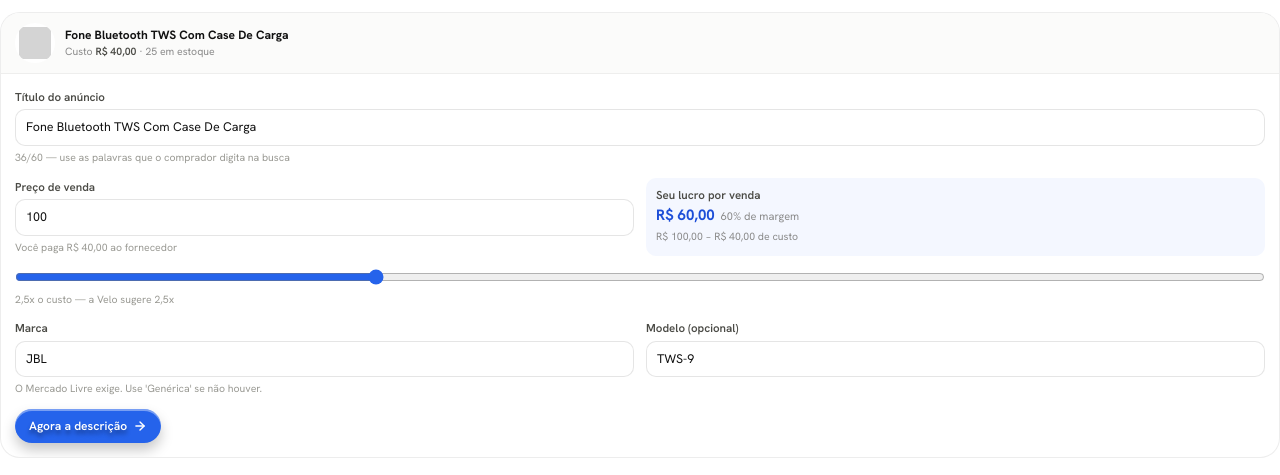
AtlasPublishComposer › publica no Mercado Livre e mostra o anúncio, sem sair do chat
Expected: the field showing "Fone Bluetooth TWS" is shown, [15,109,1265,146]
Click the button "Agora a descrição": (88, 426) [15,409,161,443]
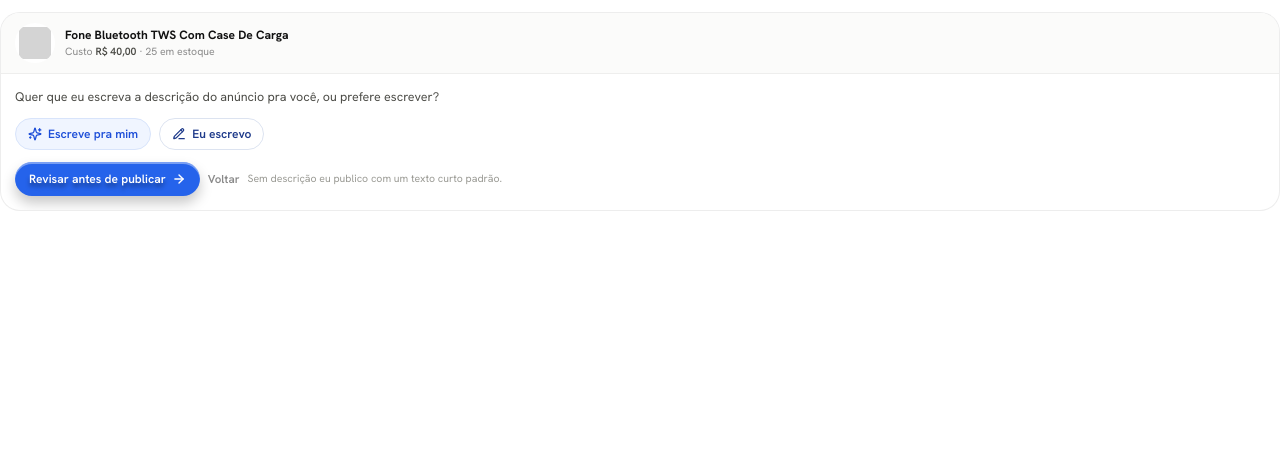
Click the button "Eu escrevo": (212, 134) [159,118,264,150]
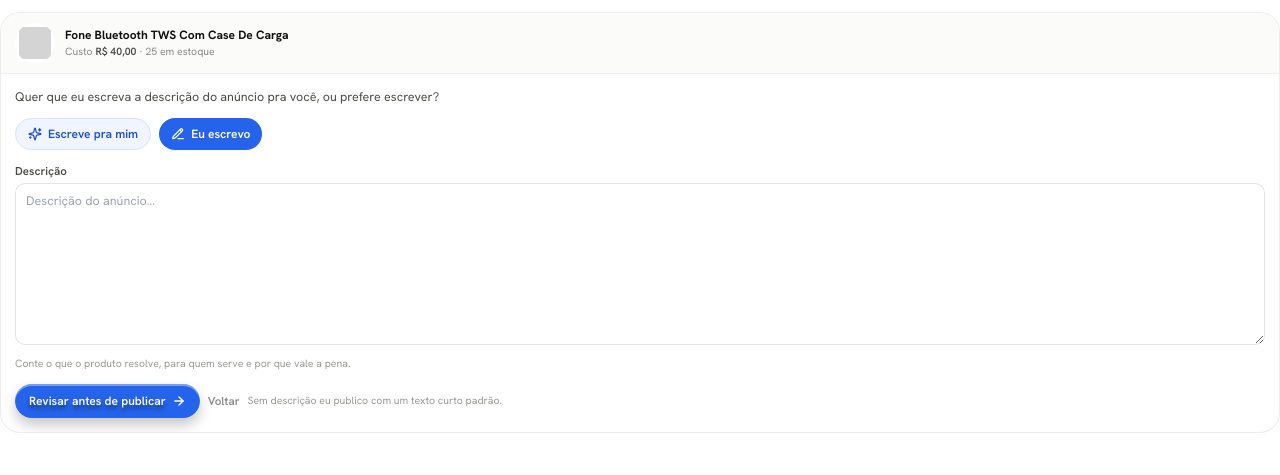
In the text box with placeholder "Descrição do anúncio…": (640, 264) [15,183,1265,345], type "Texto meu."
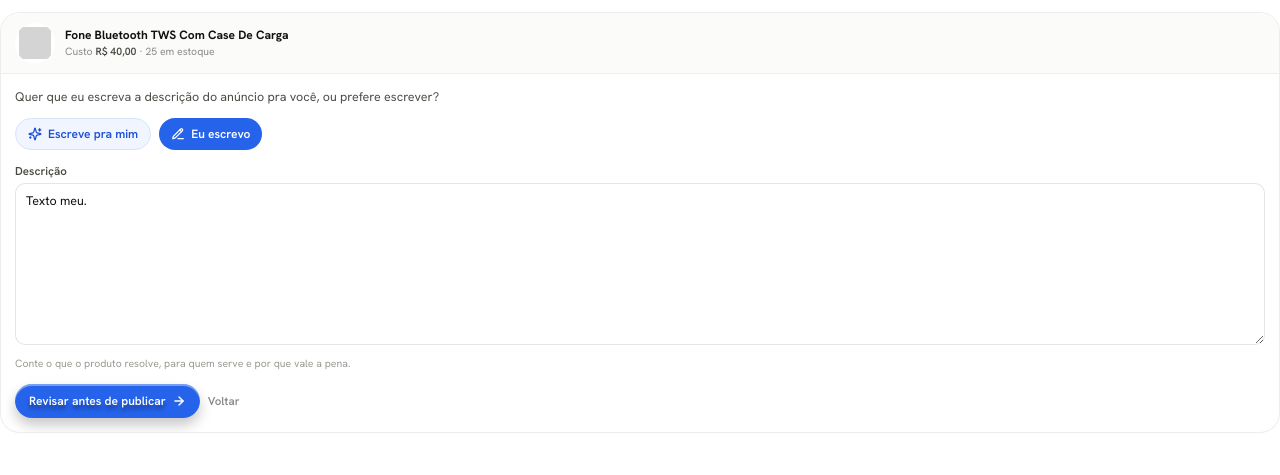
Click the button "Revisar antes de publicar": (107, 401) [15,384,200,418]
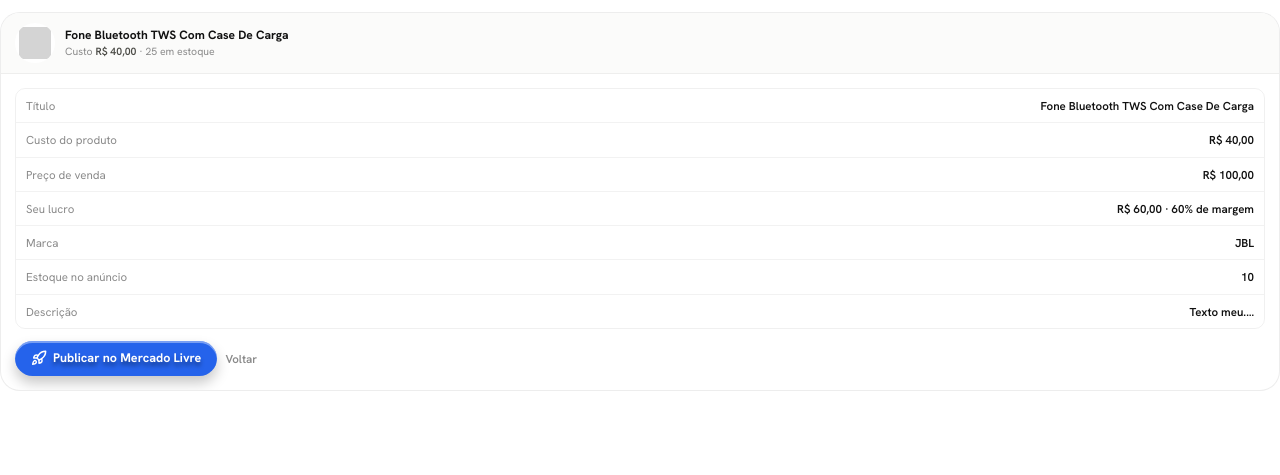
Click the button "Publicar no Mercado Livre": (116, 358) [15,341,217,376]
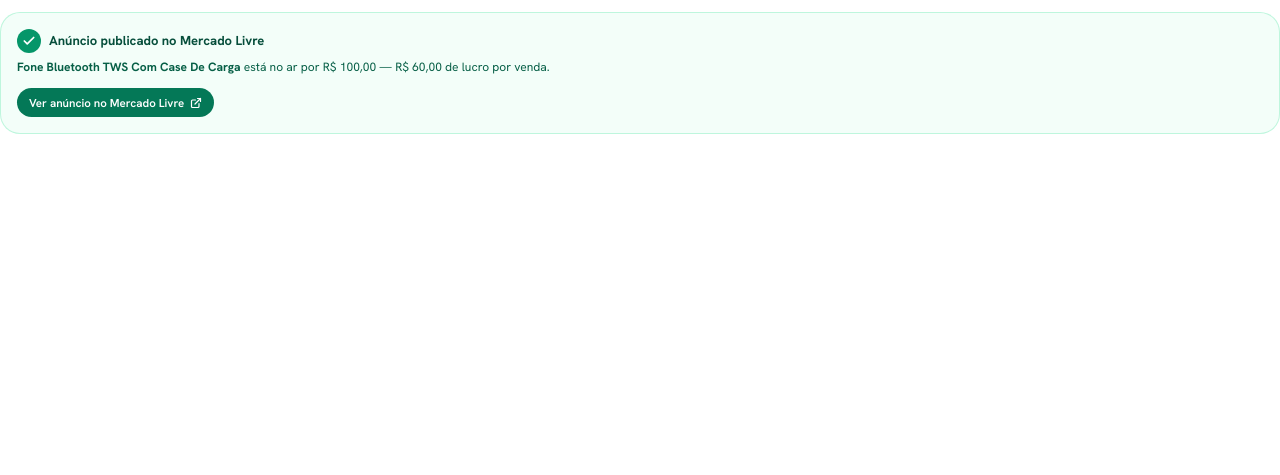
Expected: the text "Anúncio publicado no Mercado Livre" is shown, [49,31,264,51]
